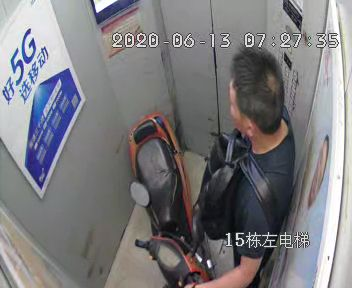Electric-bicycle: (127, 114, 215, 288)
